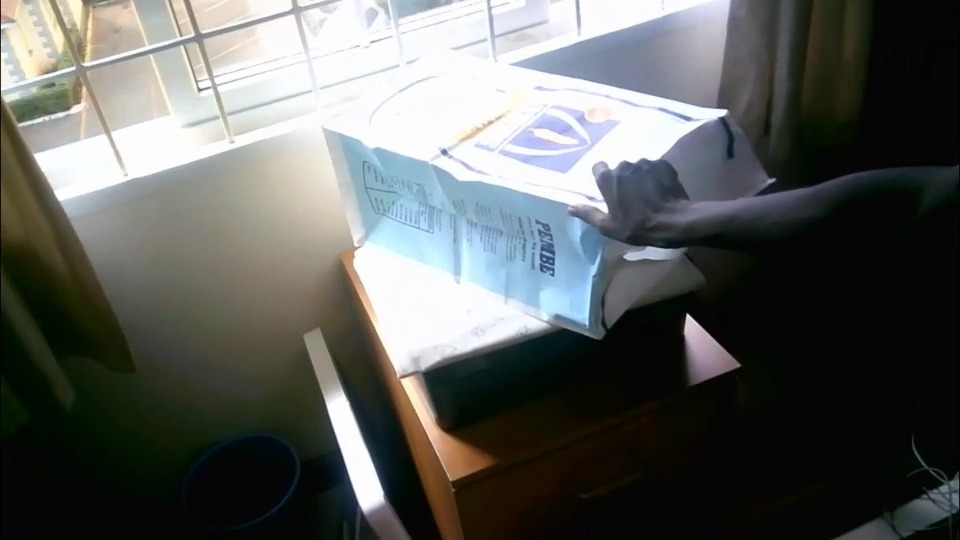wheat_flour_blue_label: (330, 50, 774, 340)
